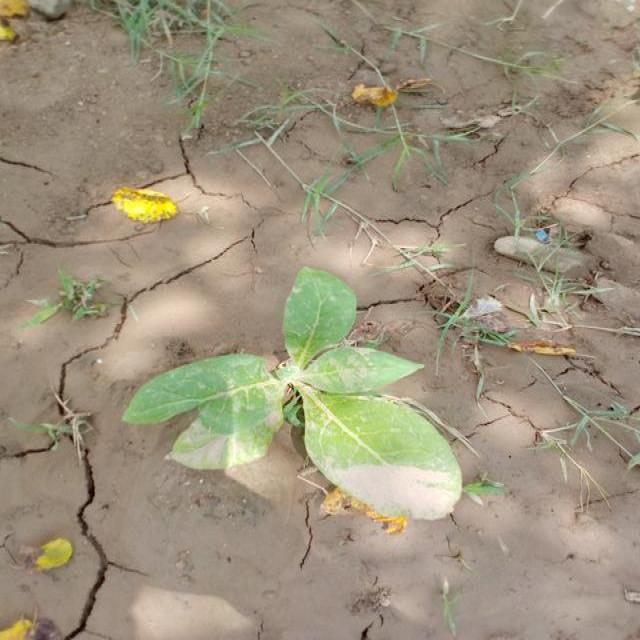crop: (140, 284, 460, 514)
